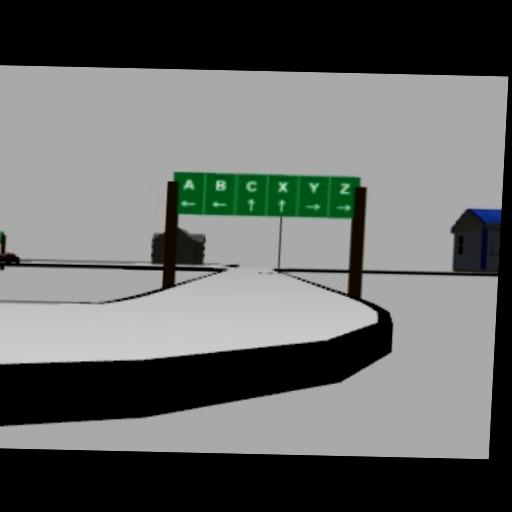A: (182, 176, 194, 189)
B: (214, 176, 226, 190)
C: (243, 177, 257, 190)
Left: (180, 199, 196, 206), (210, 200, 228, 206)
Right: (302, 201, 321, 209), (336, 202, 350, 210)
Straight: (275, 198, 286, 211), (245, 197, 254, 210)
X: (277, 180, 289, 191)
Y: (306, 179, 320, 192)
Z: (338, 181, 350, 192)
